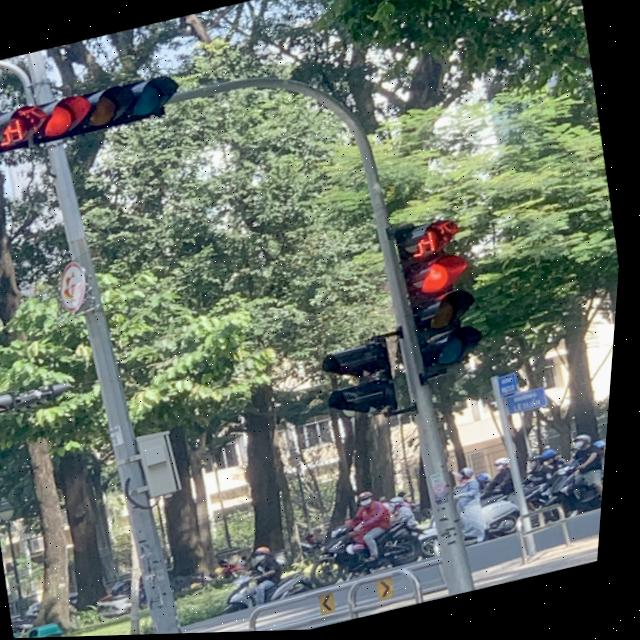Red: (30, 66, 182, 152), (398, 253, 493, 382)
